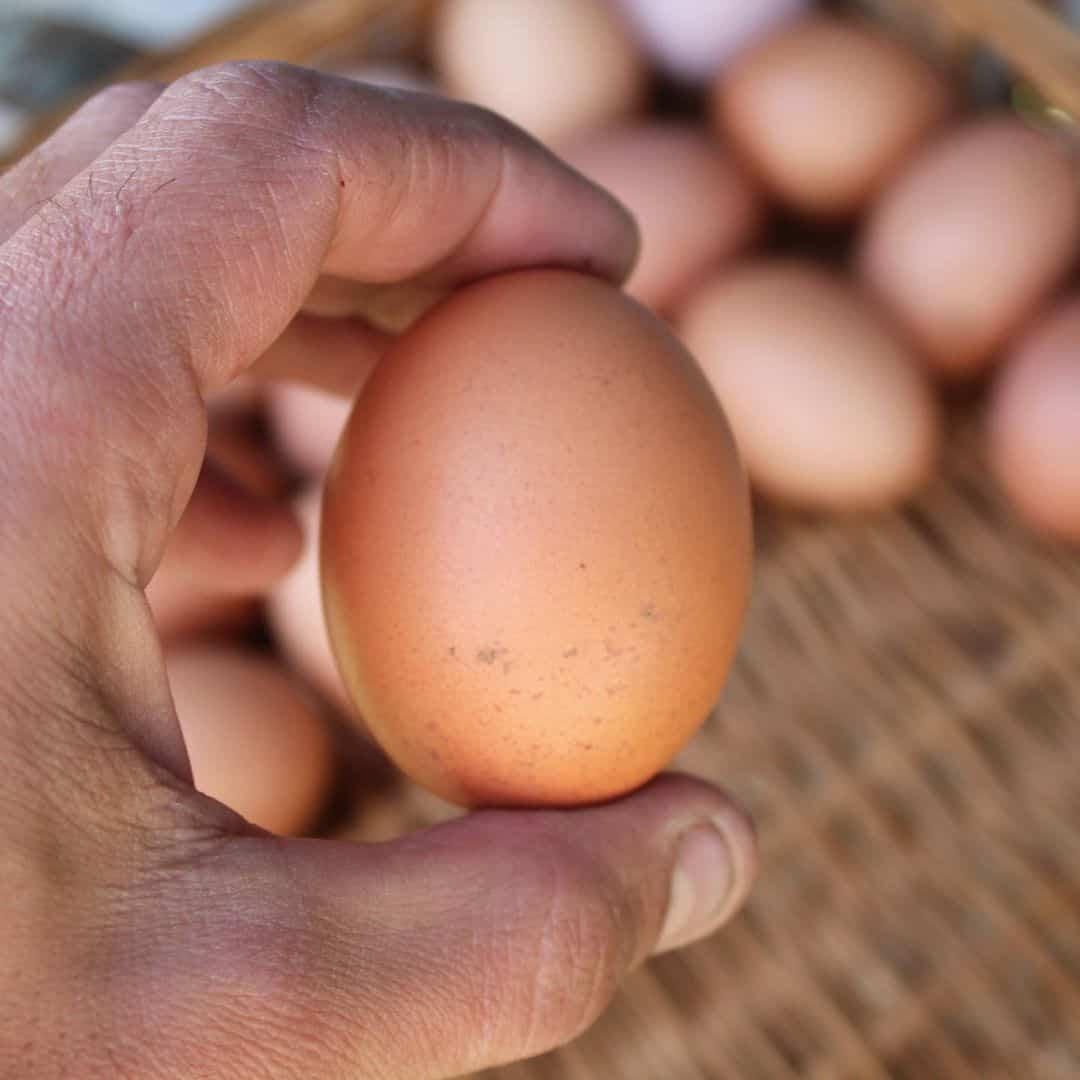egg: (303, 248, 766, 826)
